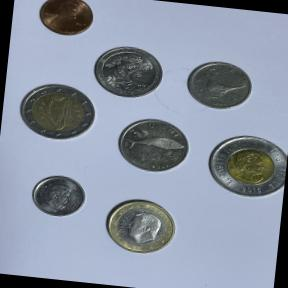coin: (195, 121, 288, 208), (92, 190, 184, 260), (108, 111, 197, 182), (10, 78, 100, 148), (88, 38, 168, 105), (24, 168, 92, 224), (29, 0, 103, 44)
